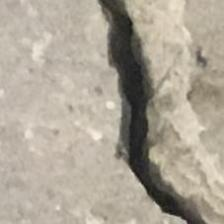Crack: (66, 0, 224, 224)
